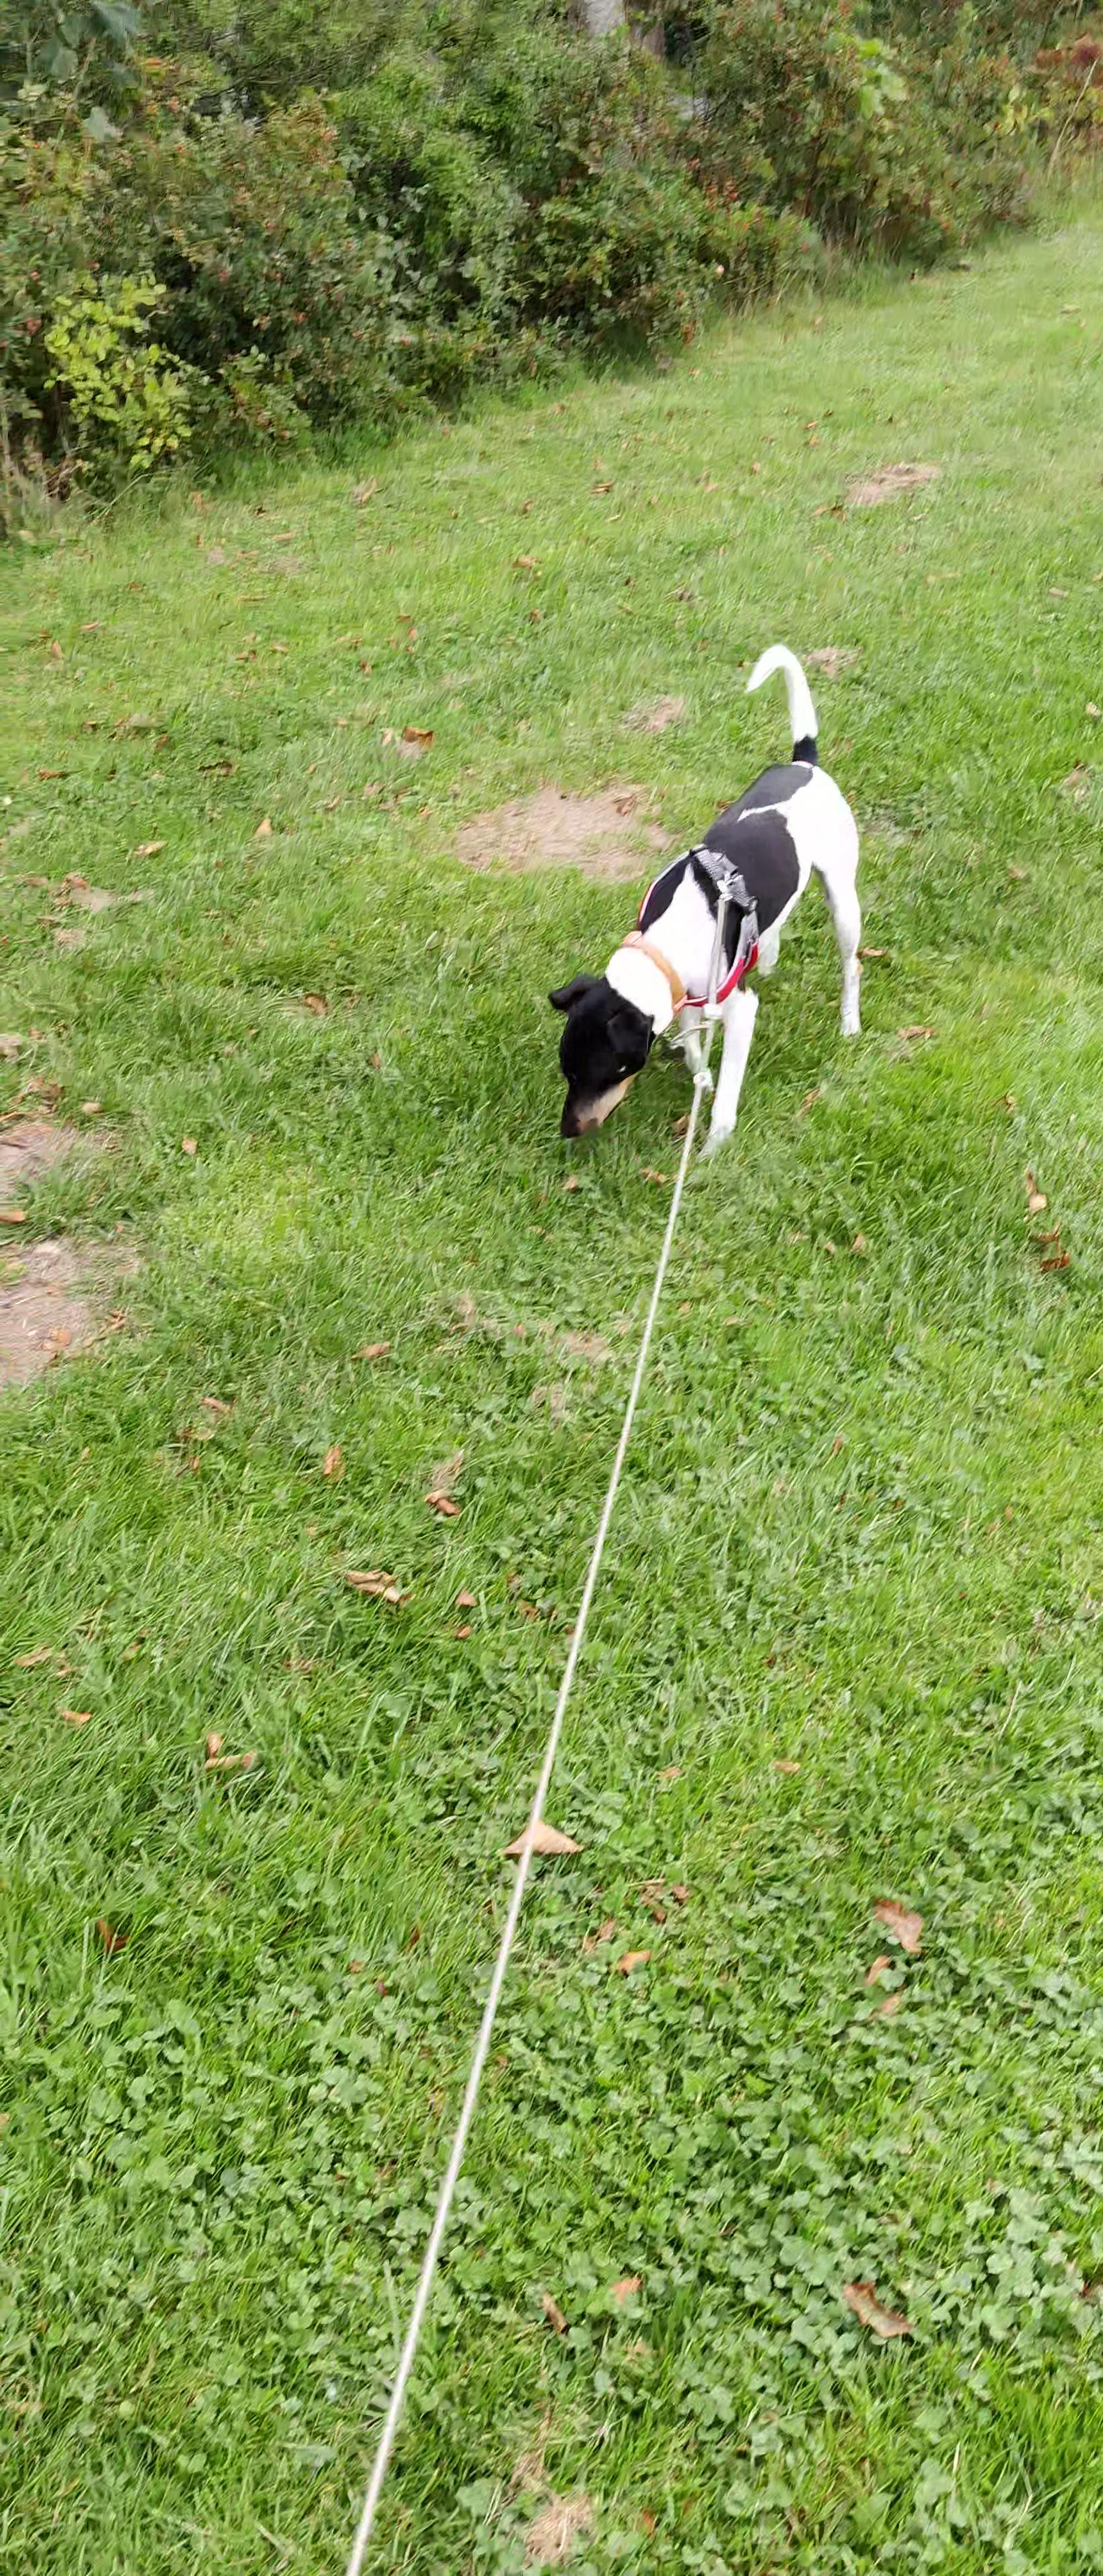Dog: (534, 631, 865, 1155)
